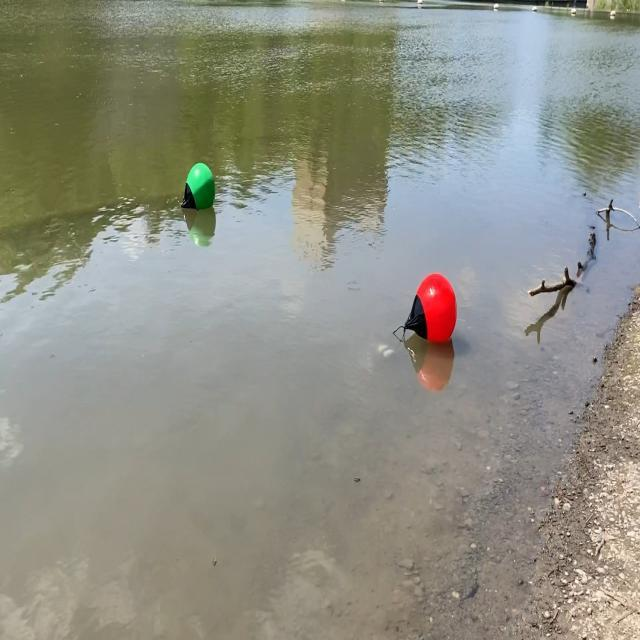buoy: (403, 272, 456, 344), (182, 163, 214, 209)
